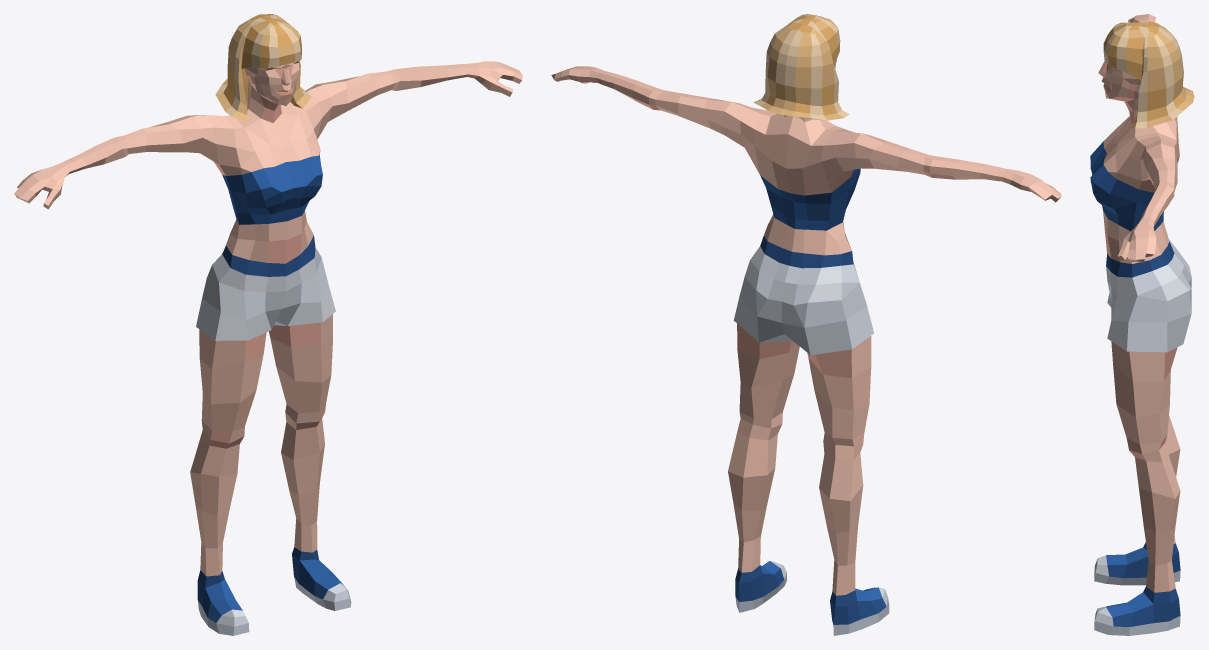
File: casual_Female_K-model.fbx
3 views of the same model, side by side, from view 1: azimuth 30°, elevation 25°; view 2: azimuth 150°, elevation 25°; view 3: azimuth 270°, elevation 25° (orthographic).
Visible parts, largest first — view 1: casual_Female_K, acc_hair_punkin; view 2: casual_Female_K, acc_hair_punkin; view 3: casual_Female_K, acc_hair_punkin.
Part boxes in pixels (x1,y1,x2,y2): casual_Female_K: (14, 61, 522, 635); acc_hair_punkin: (215, 14, 311, 121); casual_Female_K: (551, 59, 1061, 635); acc_hair_punkin: (753, 14, 849, 120); casual_Female_K: (1090, 14, 1191, 635); acc_hair_punkin: (1103, 21, 1194, 128).
Bounding box in the file's own units: 153 × 170 × 27.67.
Materials: 1 (1 with a texture image).
